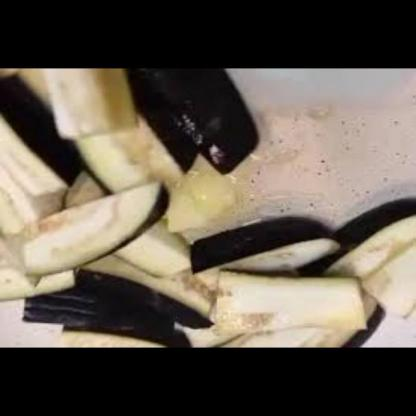eggplant: (5, 69, 395, 343)
